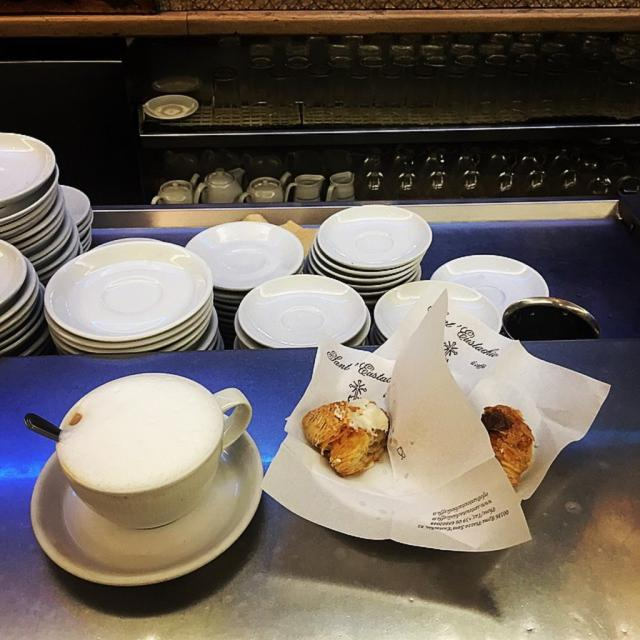non-organic waste: (55, 224, 250, 364)
